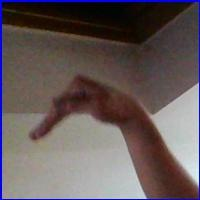A: (26, 61, 145, 154)
